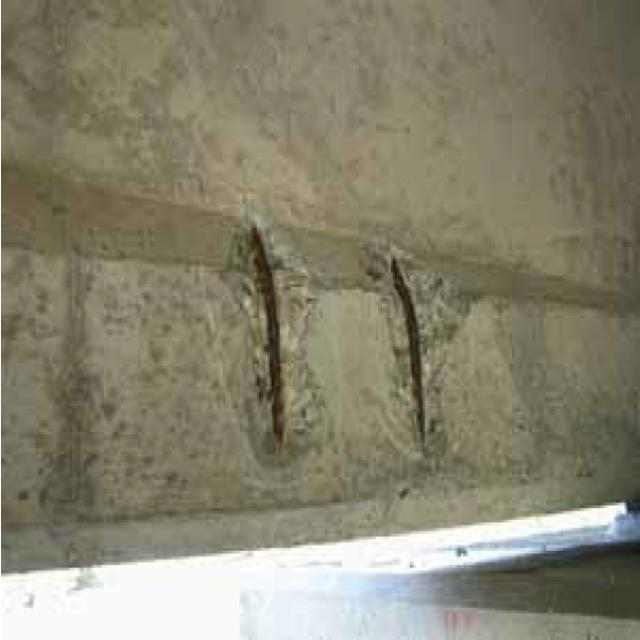spalling: (223, 213, 466, 504)
